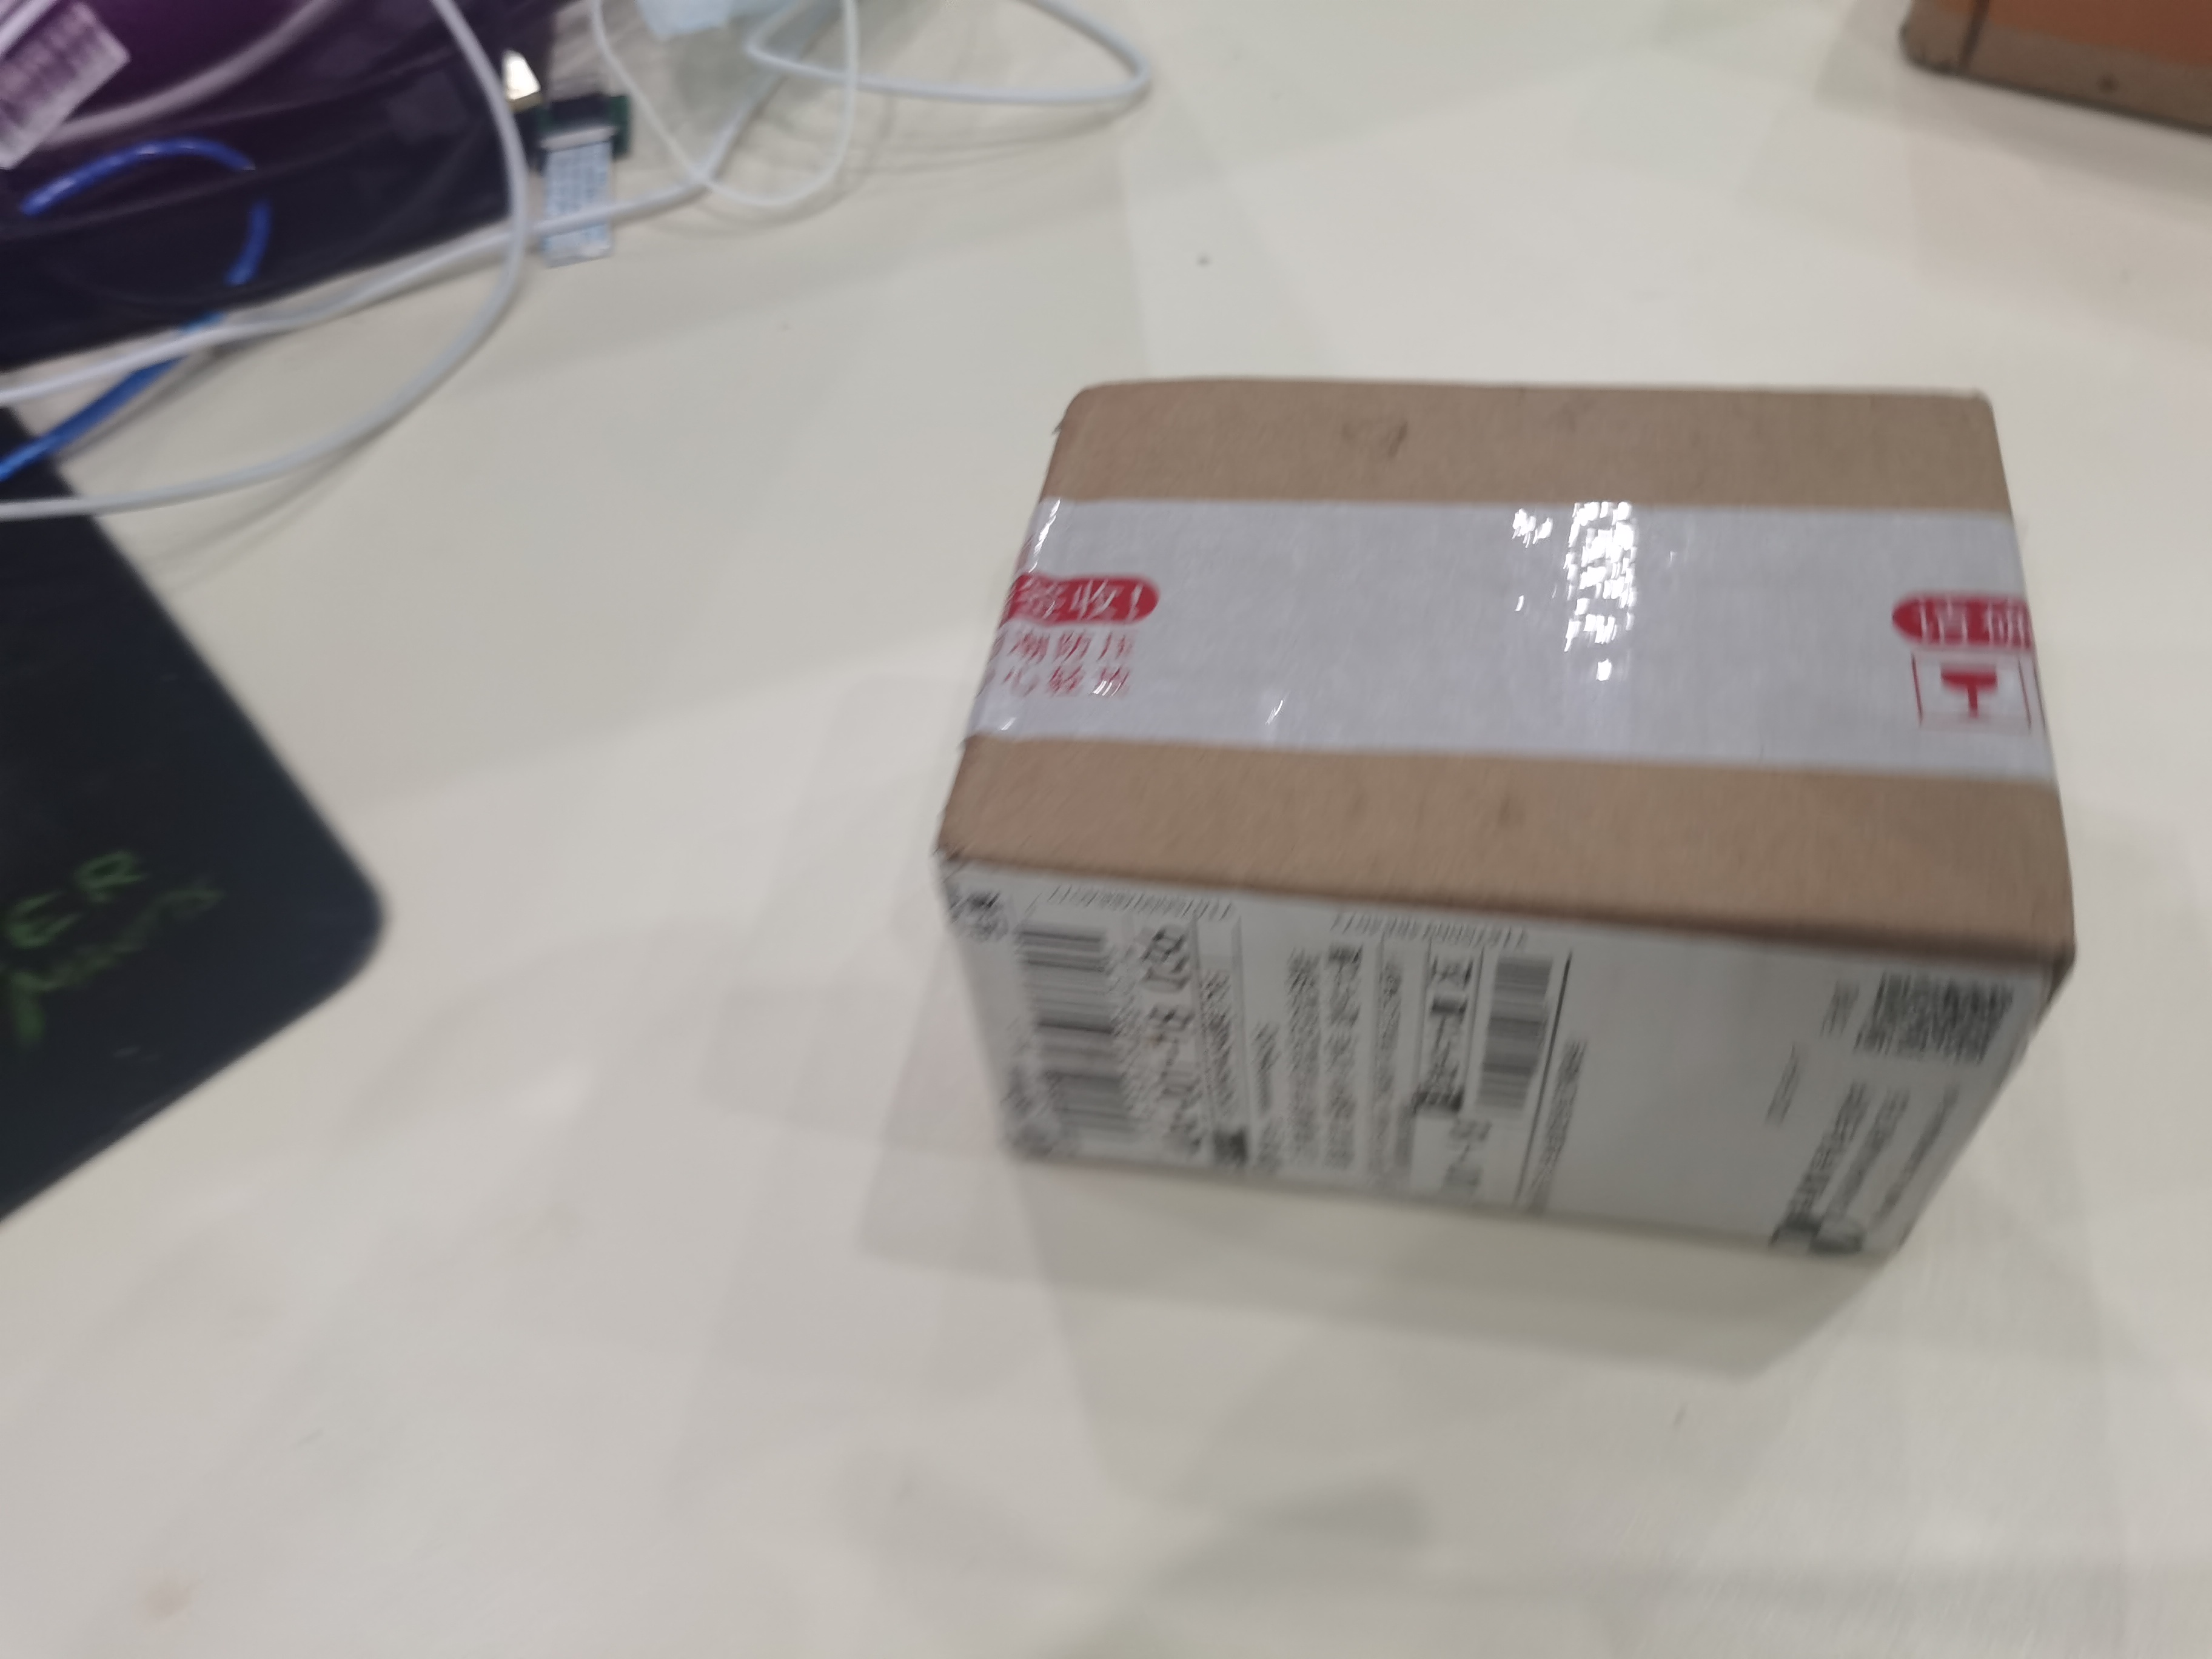box: (930, 383, 2076, 1286)
